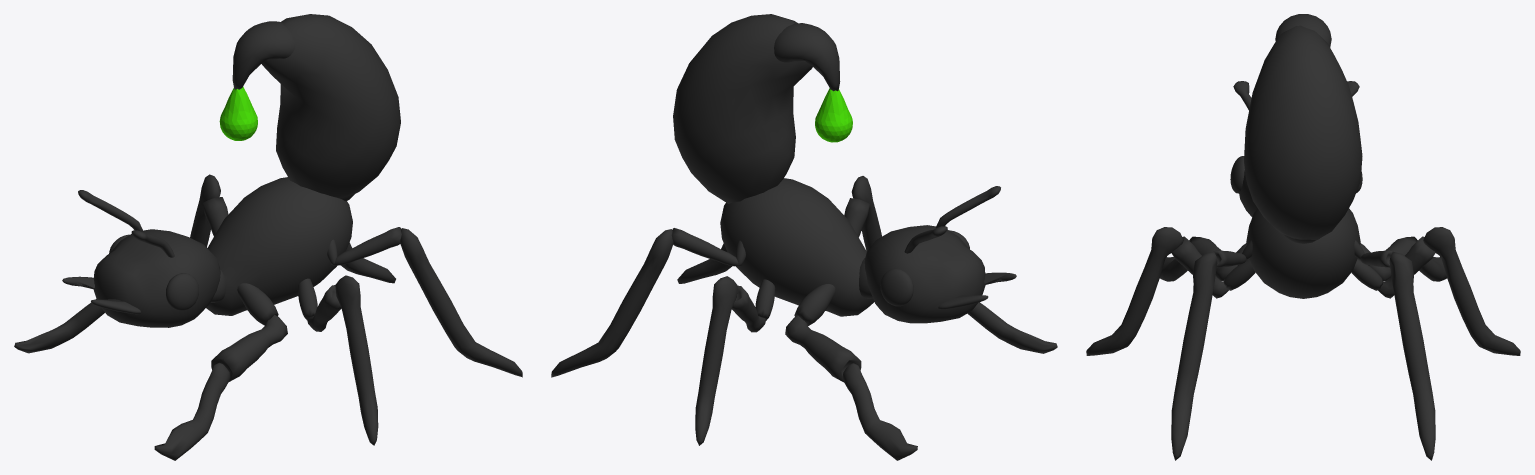
The model's file is mrufka ranged.fbx.
3 views of the same model, side by side, from view 1: azimuth 30°, elevation 25°; view 2: azimuth 150°, elevation 25°; view 3: azimuth 270°, elevation 25° (orthographic).
Visible parts, largest first — view 1: Icosphere.042; view 2: Icosphere.042; view 3: Icosphere.042.
Boxes of the visible parts, <box> form: Icosphere.042: <box>14,14,522,460</box>; Icosphere.042: <box>551,14,1057,460</box>; Icosphere.042: <box>1086,14,1520,460</box>.
Size of the model in its own units: 620 by 540 by 605.
